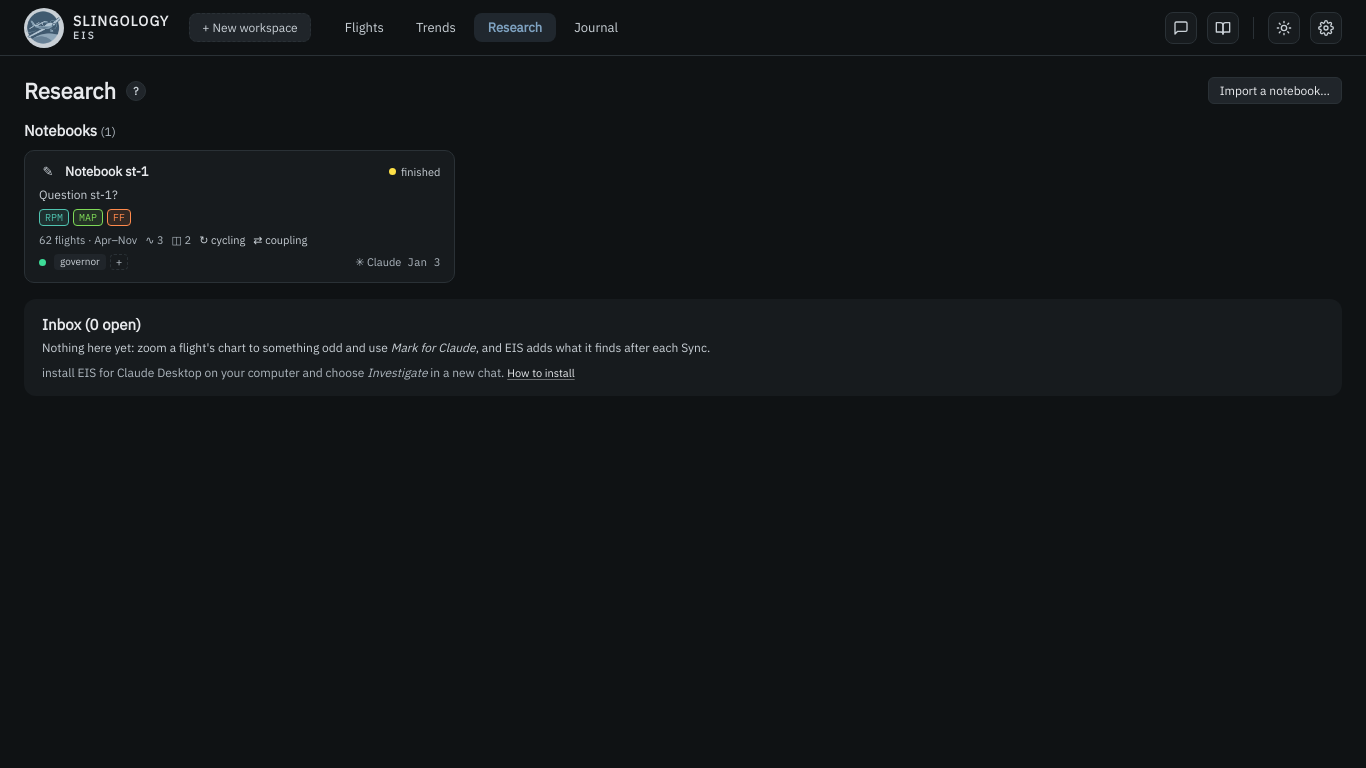
Test: Research home (Spec 03 v0.34) › the owner adds and removes a card's tags with +; one list with Claude's (Spec 03 v0.37)
The image size is (1366, 768).
Step 1. Click the button with test id "card-tag-add" → {"x": 119, "y": 262}, box [110,254,128,270]
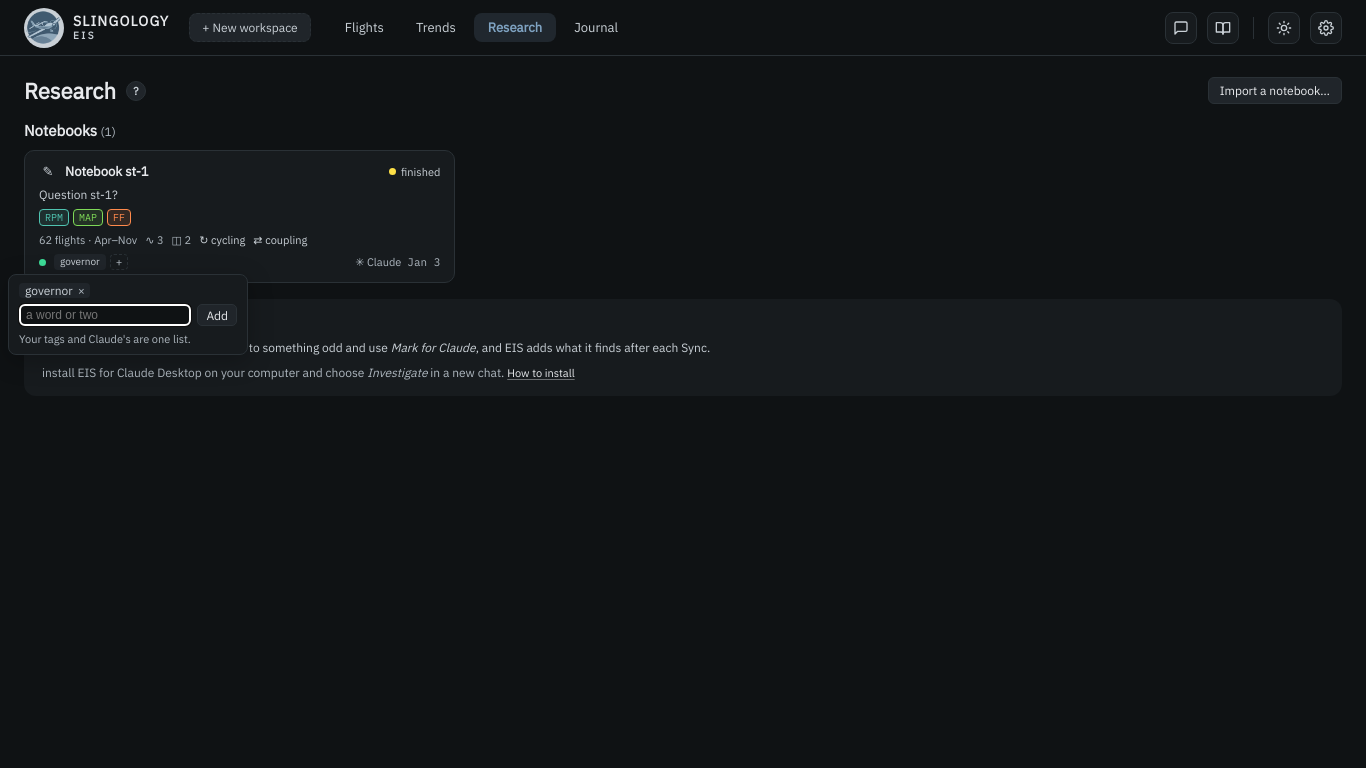
Step 2. Type "takeoff" into the field named "Add a tag" → {"x": 105, "y": 315}, box [19,304,191,326]
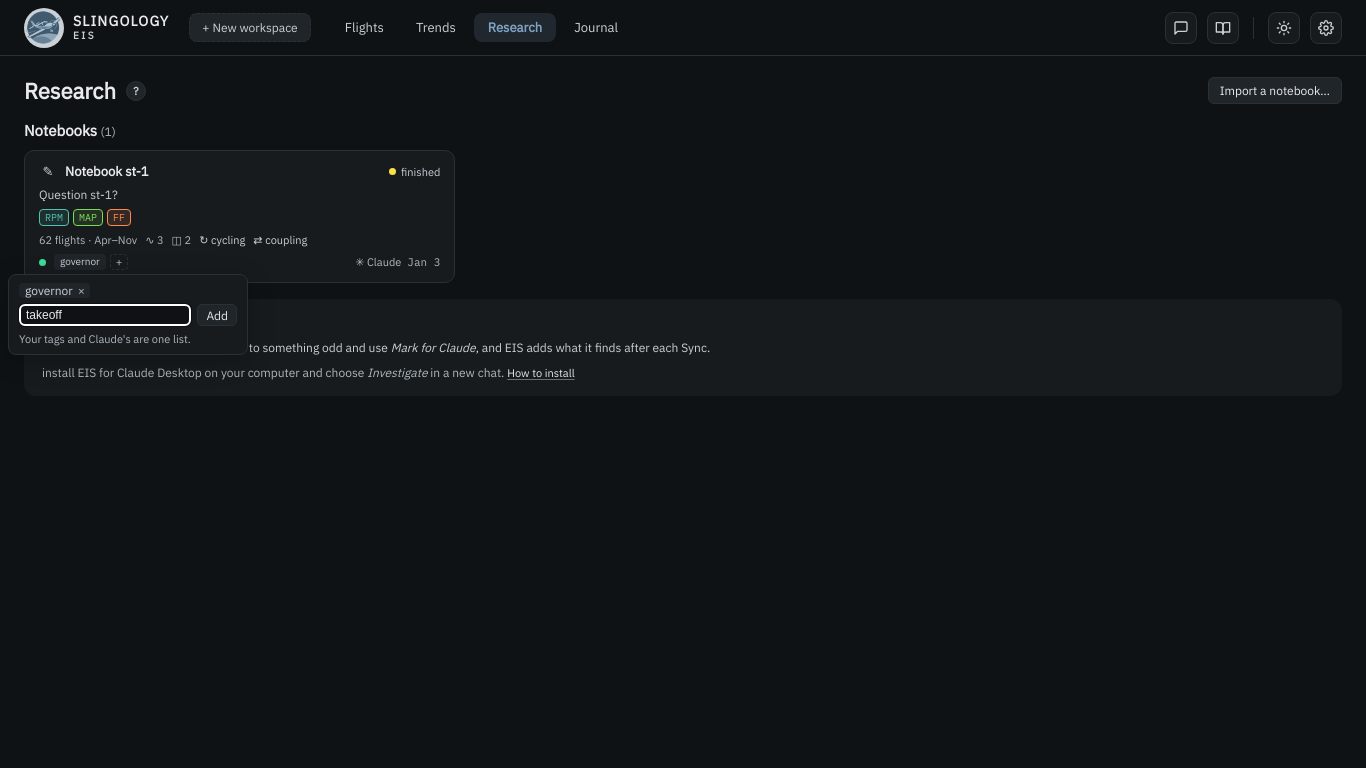
Step 3. Click the button "Add" → {"x": 217, "y": 315}, box [197,304,237,326]
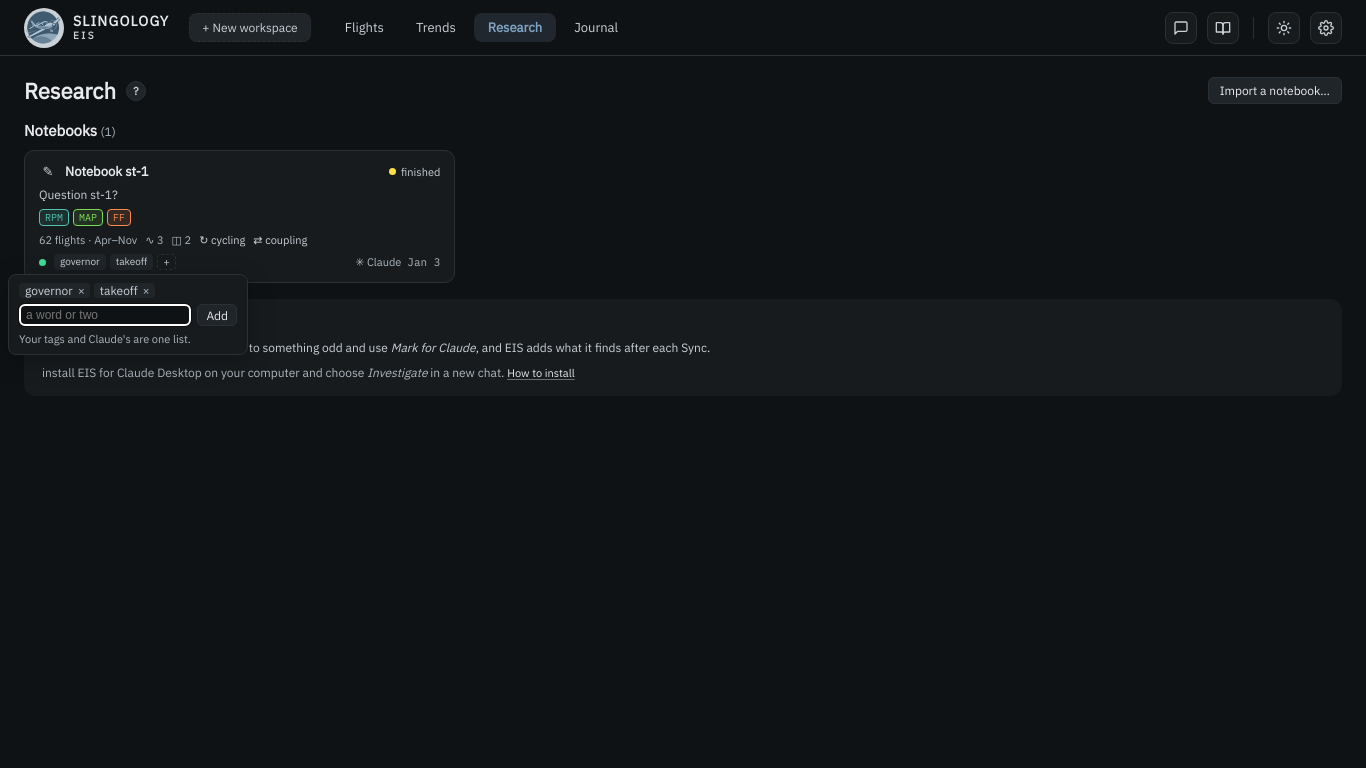
Expected: the elements with test id "card-tag" read "governor", "takeoff", in this order, [54,254,106,270]; [110,254,153,270]
Step 4. Click the button named "Remove “governor”" → {"x": 81, "y": 290}, box [75,283,88,298]
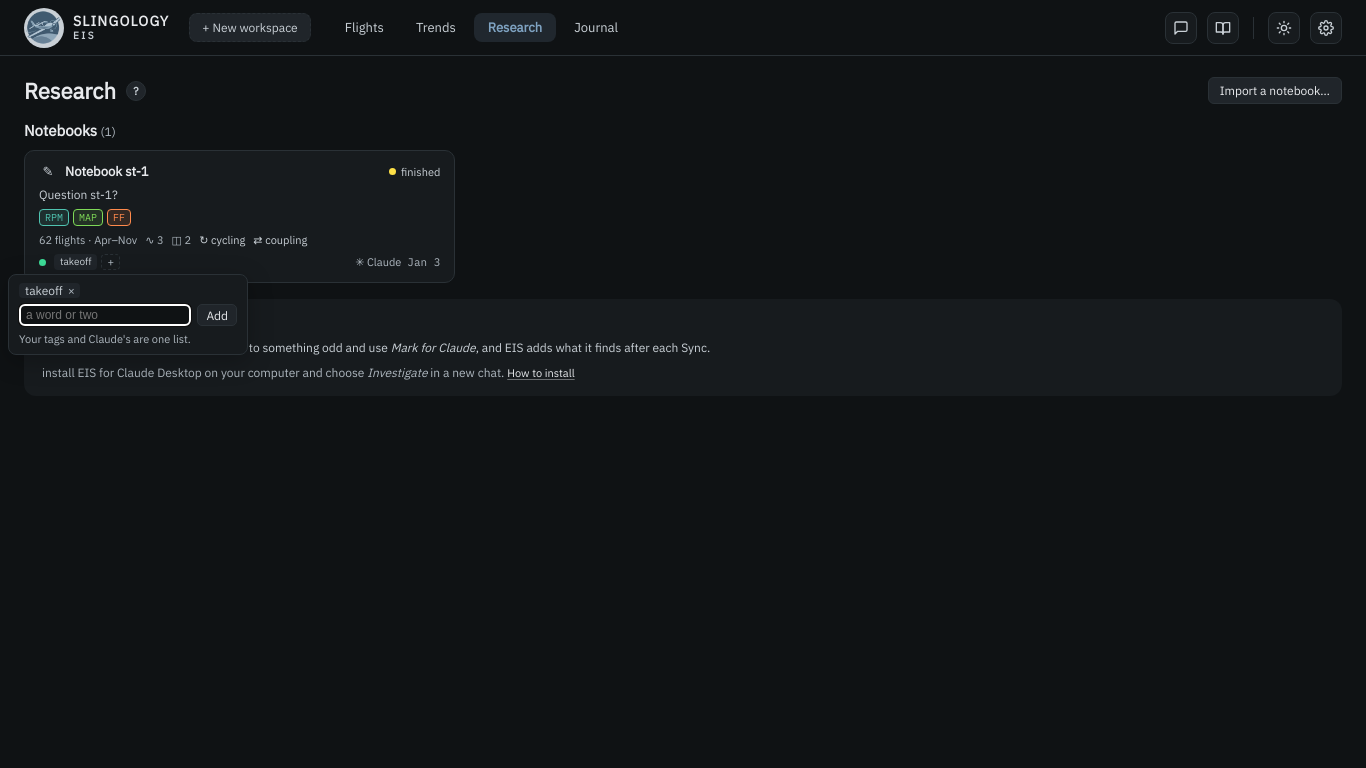
Expected: the elements with test id "card-tag" read "takeoff", in this order, [54,254,98,270]
